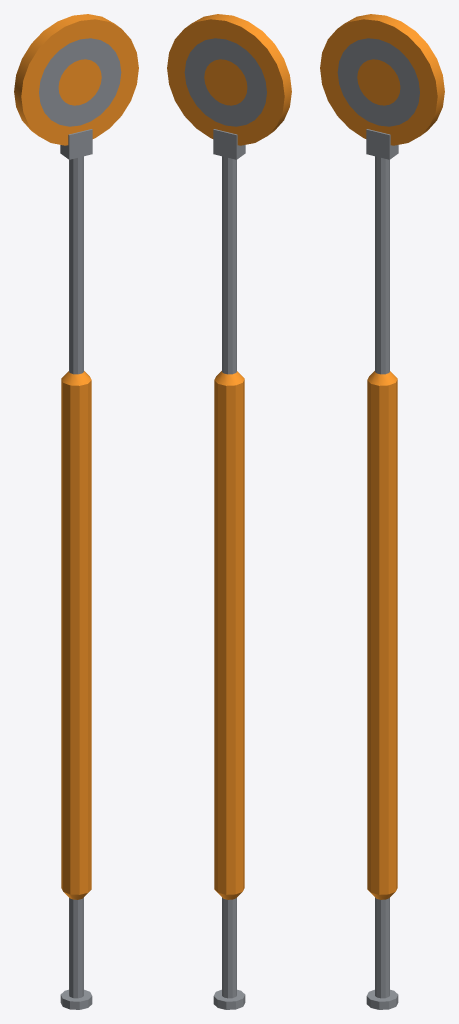
File: chainpole.glb
3 renders of one model, left to right at view 1: azimuth 30°, elevation 25°; view 2: azimuth 150°, elevation 25°; view 3: azimuth 330°, elevation 25°, orthographic.
Visible parts, largest first — view 1: chainpole; view 2: chainpole; view 3: chainpole.
Part boxes in pixels (<box>): chainpole: <box>14,14,138,1009</box>; chainpole: <box>167,14,291,1009</box>; chainpole: <box>320,14,444,1009</box>.
Bounding box in the file's own units: 0.3 × 2.4 × 0.0666.
